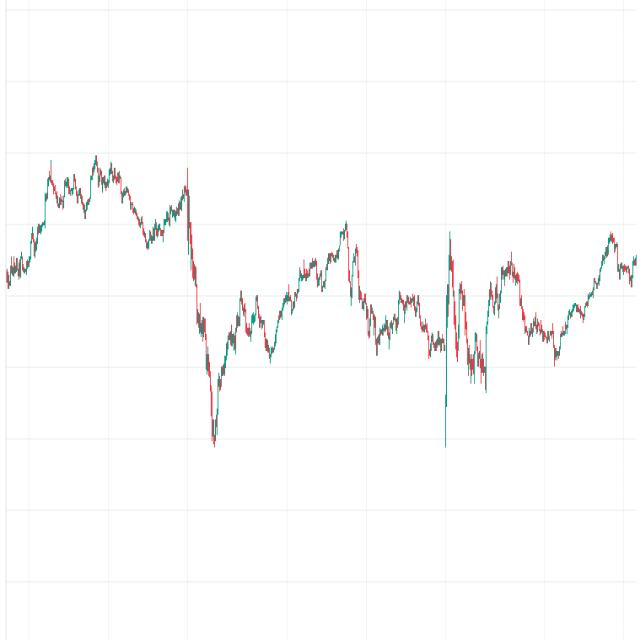Rising-Wedge: (182, 204, 364, 487)
